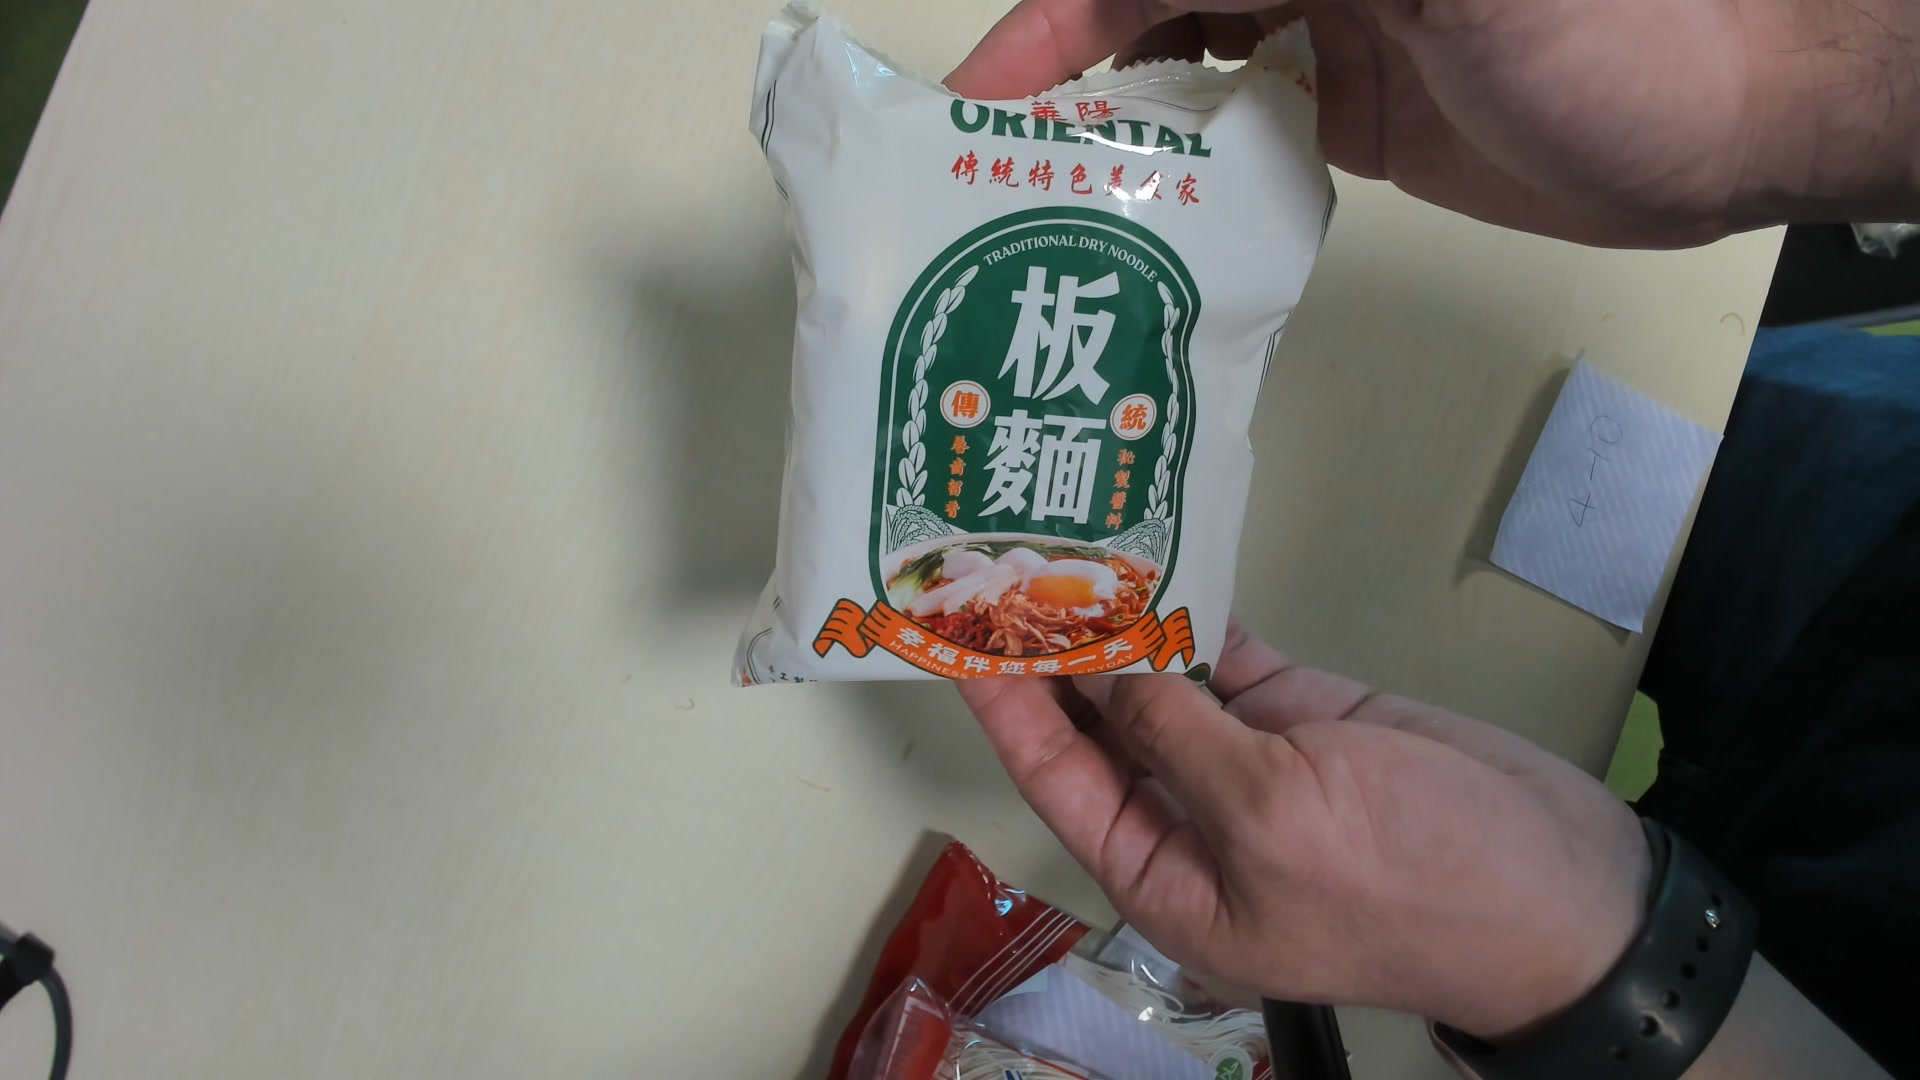BeeHoonVermicelli_100-199g_NonHalal_NonHealthy: (749, 20, 1305, 702)
